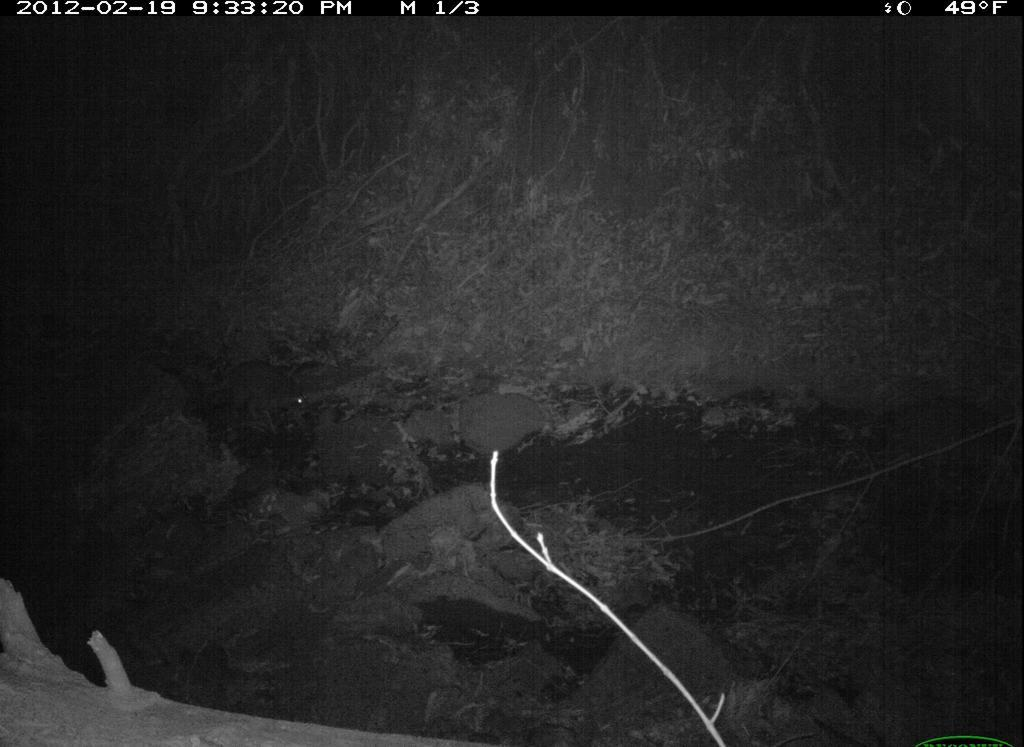raccoon: (210, 351, 322, 450)
